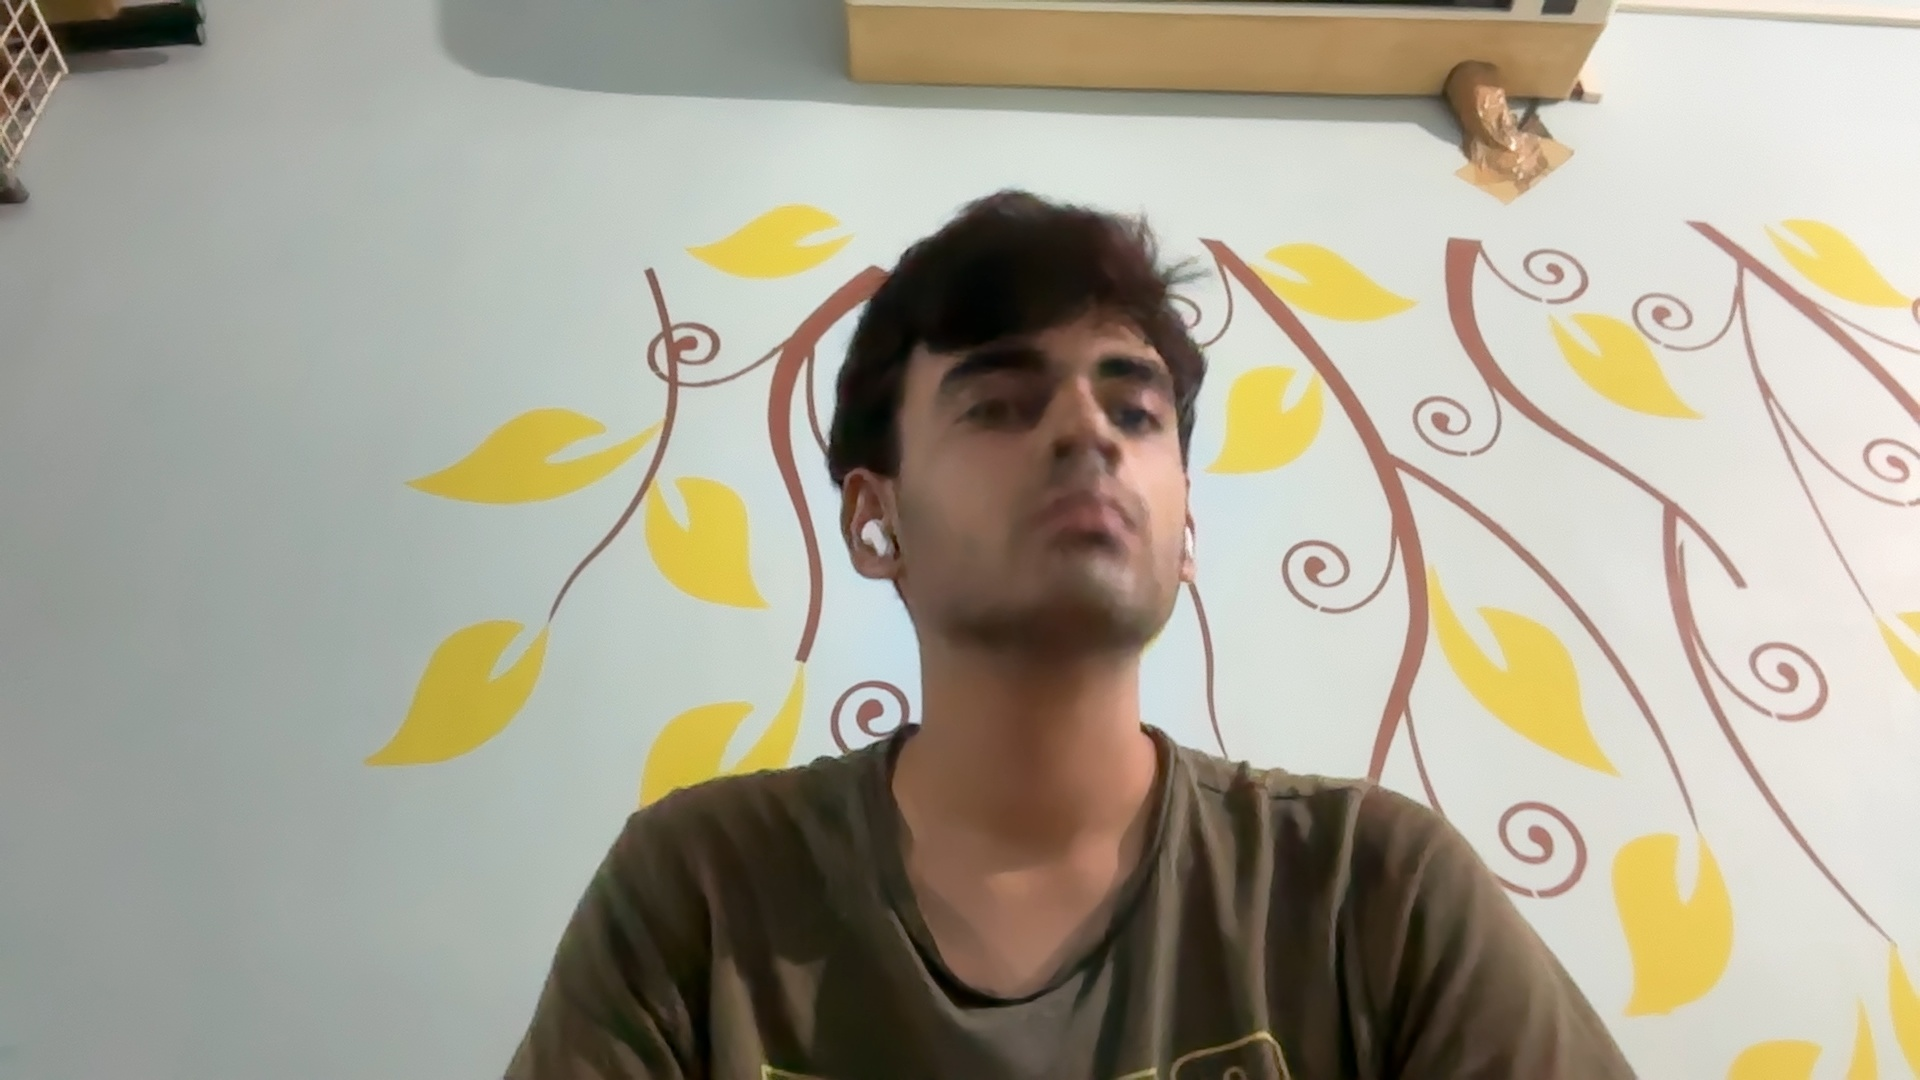No Mask: (903, 466, 1184, 650)
